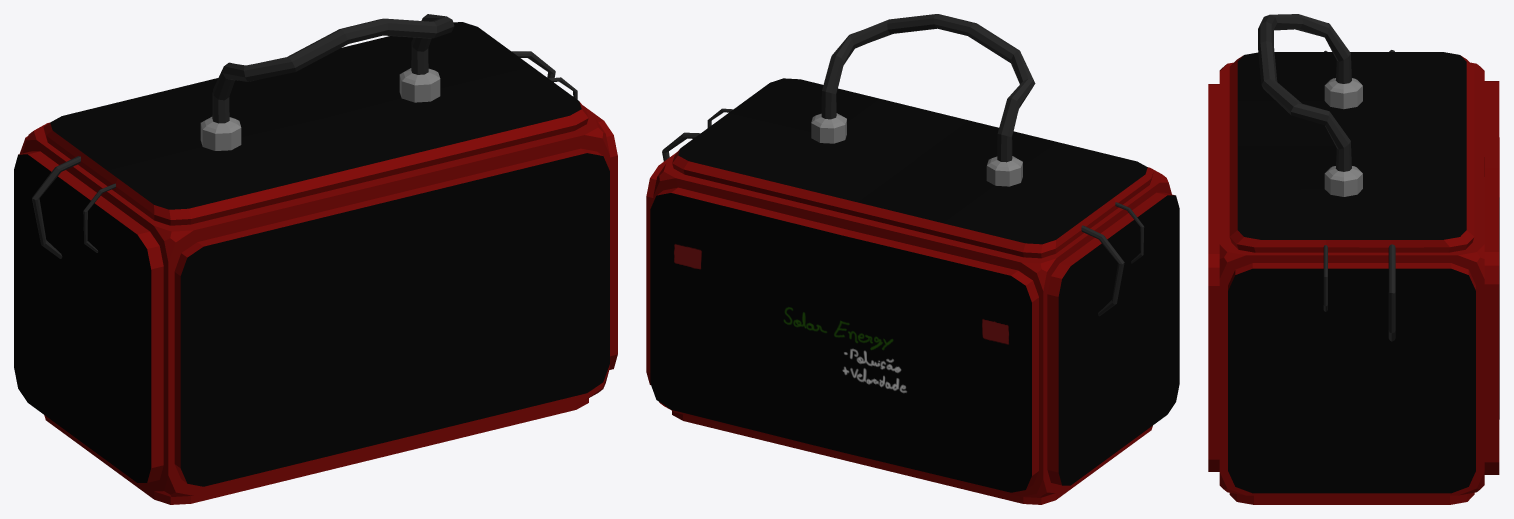
The model's file is Low_Battery.fbx.
3 views of the same model, side by side, from view 1: azimuth 30°, elevation 25°; view 2: azimuth 150°, elevation 25°; view 3: azimuth 270°, elevation 25° (orthographic). The views are drawn at different scales.
Parts seen in each view (by area): view 1: Low_Baterry; view 2: Low_Baterry; view 3: Low_Baterry.
Boxes of the visible parts, <box> form: Low_Baterry: <box>14,14,617,504</box>; Low_Baterry: <box>646,14,1179,504</box>; Low_Baterry: <box>1208,14,1499,504</box>.
Bounding box in the file's own units: 206 × 110 × 157.
Materials: 5 (1 with a texture image).
